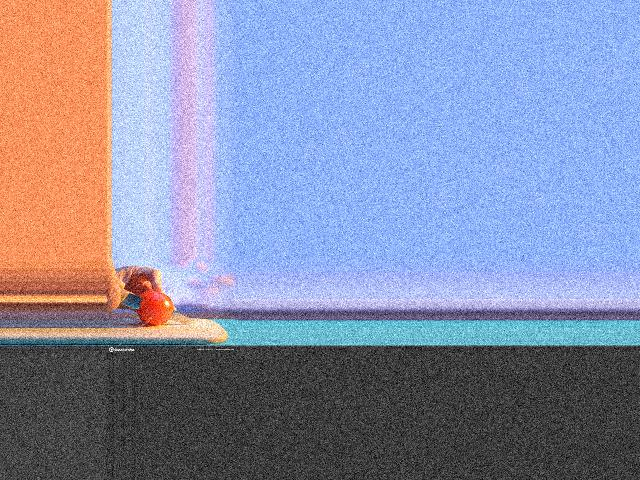tomato: (137, 291, 174, 326)
